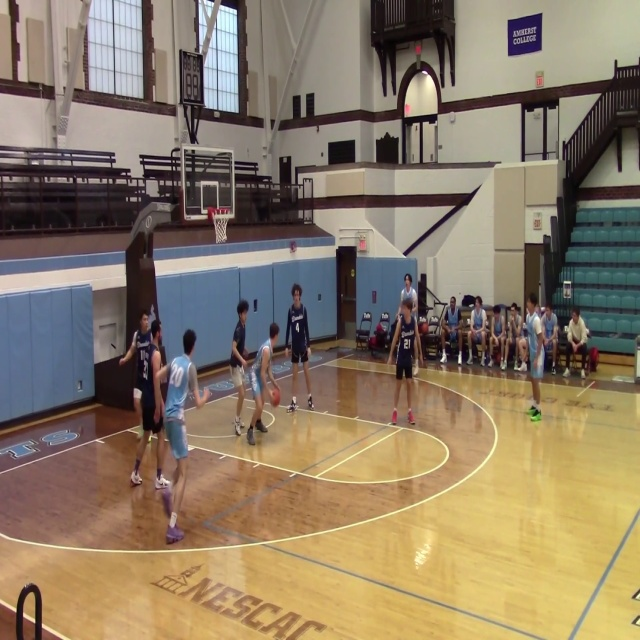Basketball: (269, 387, 280, 407), (270, 323, 279, 337), (419, 323, 428, 334)
